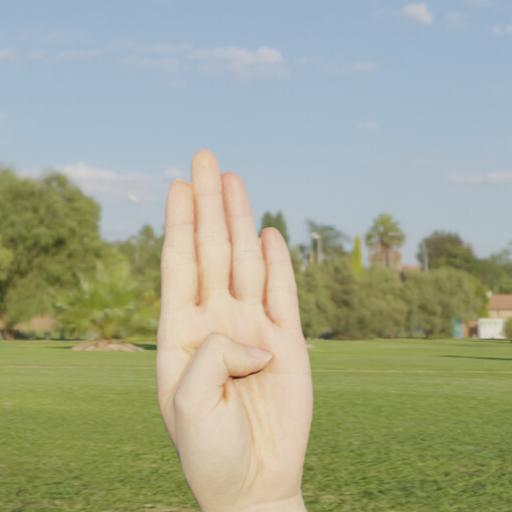B: (128, 142, 330, 502)
